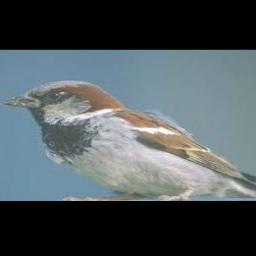Sparrow: (0, 80, 256, 200)
